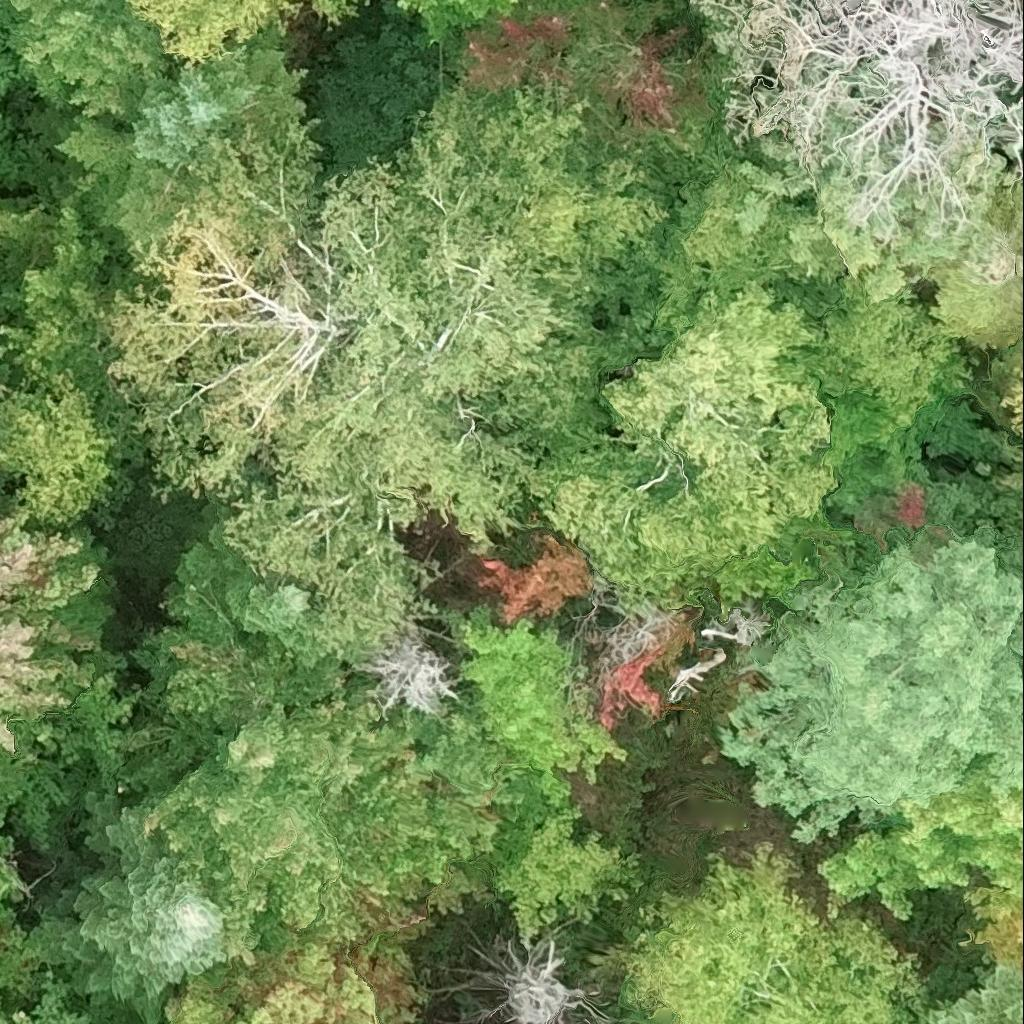crown: (101, 114, 597, 675), (538, 159, 980, 609), (145, 674, 521, 968), (714, 530, 1023, 844), (429, 72, 721, 332), (115, 542, 358, 807), (595, 844, 953, 1023), (69, 31, 305, 258), (46, 792, 229, 1023), (443, 606, 624, 802), (818, 760, 1023, 920), (488, 768, 646, 952), (163, 926, 427, 1023), (0, 509, 93, 750), (0, 794, 89, 1023), (1, 0, 167, 115), (202, 521, 329, 670), (571, 600, 703, 733), (925, 182, 1023, 352), (0, 380, 104, 527), (477, 530, 596, 623), (124, 0, 296, 61), (666, 606, 770, 704), (483, 937, 584, 1023), (356, 630, 460, 713), (936, 967, 1023, 1023), (409, 0, 516, 34), (992, 328, 1023, 435), (296, 0, 358, 21), (638, 1008, 667, 1023)
